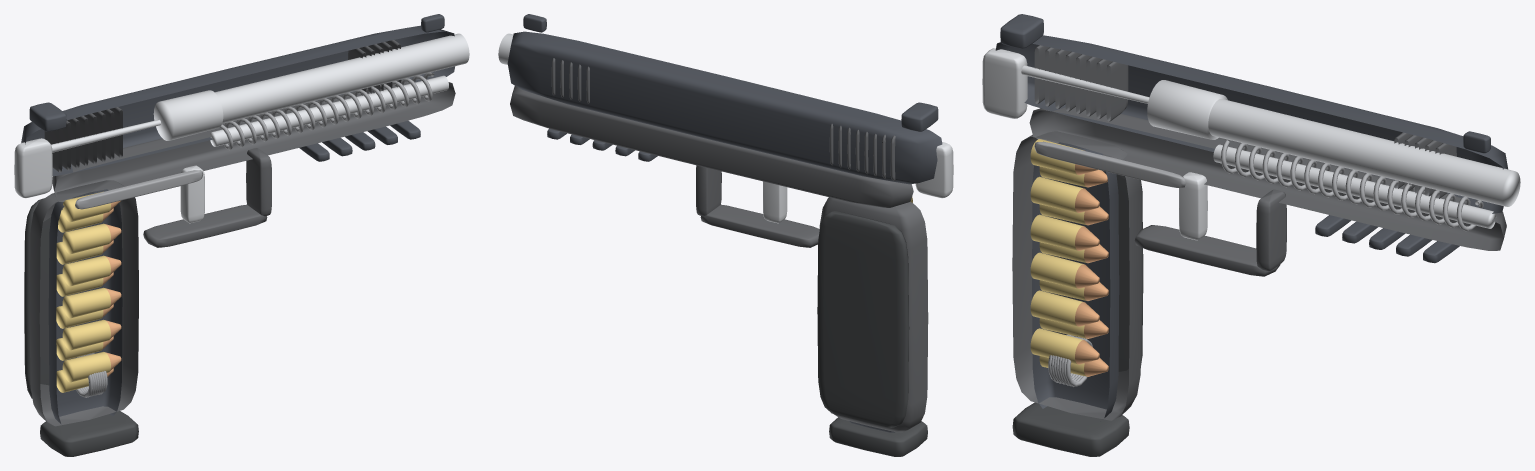
Rendered from fort14tp-cut.glb.
3 renders of one model, left to right at view 1: azimuth 30°, elevation 25°; view 2: azimuth 150°, elevation 25°; view 3: azimuth 330°, elevation 25°, orthographic. The views are drawn at different scales.
Parts seen in each view (by area): view 1: frame_dustcover, slide_body, barrel_122mm, grip_frame, mag_body, recoil_spring, mag_baseplate, recoil_guide_rod, grip_panel_L, barrel_chamber, trigger_guard_bot, hammer (+18 smaller); view 2: slide_body, grip_panel_L, frame_dustcover, grip_frame, trigger_guard_bot, mag_baseplate, hammer, trigger_guard_front, trigger, rear_sight; view 3: frame_dustcover, barrel_122mm, slide_body, grip_frame, mag_body, recoil_spring, mag_baseplate, recoil_guide_rod, trigger_guard_bot, barrel_chamber, hammer, grip_panel_L (+19 smaller).
Boxes of the visible parts, bbox=[...] form: frame_dustcover: bbox=[52, 82, 455, 201]; slide_body: bbox=[21, 25, 454, 176]; barrel_122mm: bbox=[215, 33, 469, 123]; grip_frame: bbox=[29, 180, 138, 426]; mag_body: bbox=[48, 189, 122, 423]; recoil_spring: bbox=[220, 72, 434, 150]; mag_baseplate: bbox=[40, 411, 138, 456]; recoil_guide_rod: bbox=[210, 75, 448, 146]; grip_panel_L: bbox=[24, 198, 50, 398]; barrel_chamber: bbox=[153, 90, 223, 140]; trigger_guard_bot: bbox=[143, 204, 267, 247]; hammer: bbox=[14, 138, 52, 198]; slide_body: bbox=[507, 31, 942, 184]; grip_panel_L: bbox=[817, 211, 909, 427]; frame_dustcover: bbox=[510, 86, 913, 207]; grip_frame: bbox=[819, 197, 928, 432]; trigger_guard_bot: bbox=[700, 204, 819, 247]; mag_baseplate: bbox=[829, 417, 927, 456]; hammer: bbox=[915, 142, 953, 198]; trigger_guard_front: bbox=[696, 165, 721, 216]; trigger: bbox=[763, 181, 787, 223]; rear_sight: bbox=[901, 102, 938, 131]; frame_dustcover: bbox=[1029, 107, 1506, 250]; barrel_122mm: bbox=[1208, 99, 1520, 206]; slide_body: bbox=[995, 35, 1507, 213]; grip_frame: bbox=[1012, 131, 1141, 420]; mag_body: bbox=[1032, 142, 1119, 421]; recoil_spring: bbox=[1221, 140, 1483, 231]; mag_baseplate: bbox=[1012, 402, 1129, 456]; recoil_guide_rod: bbox=[1213, 144, 1496, 228]; trigger_guard_bot: bbox=[1134, 225, 1280, 276]; barrel_chamber: bbox=[1147, 80, 1227, 139]; hammer: bbox=[982, 48, 1027, 118]; grip_panel_L: bbox=[1116, 174, 1143, 371].
Size of the model in its own units: 0.215 by 0.158 by 0.0295.
